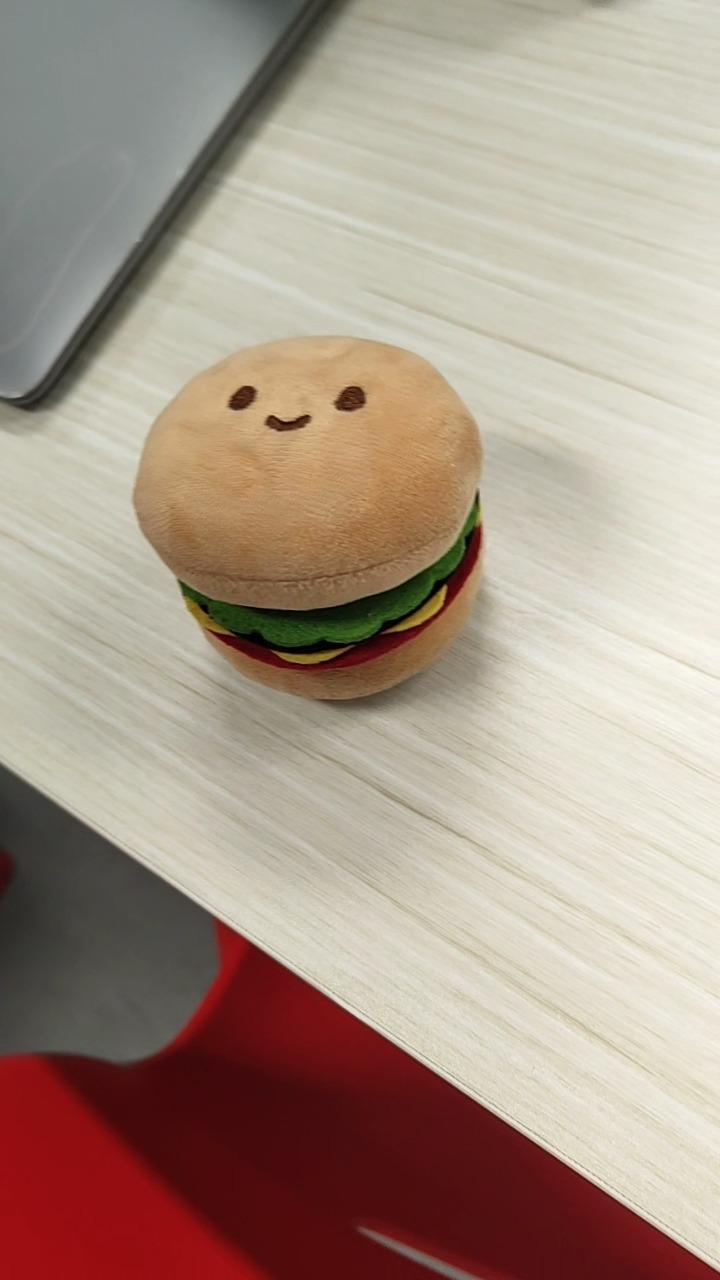hamburger: (131, 333, 486, 703)
